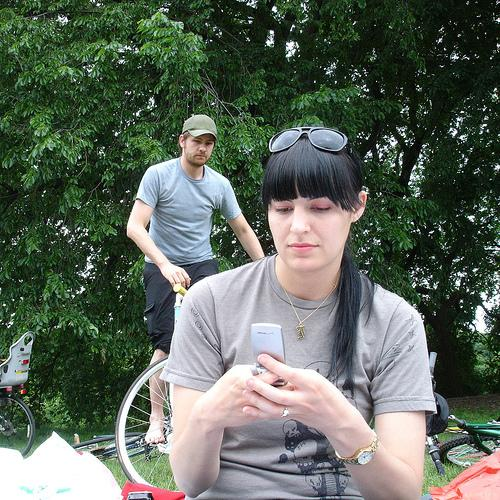person: (161, 128, 437, 500)
